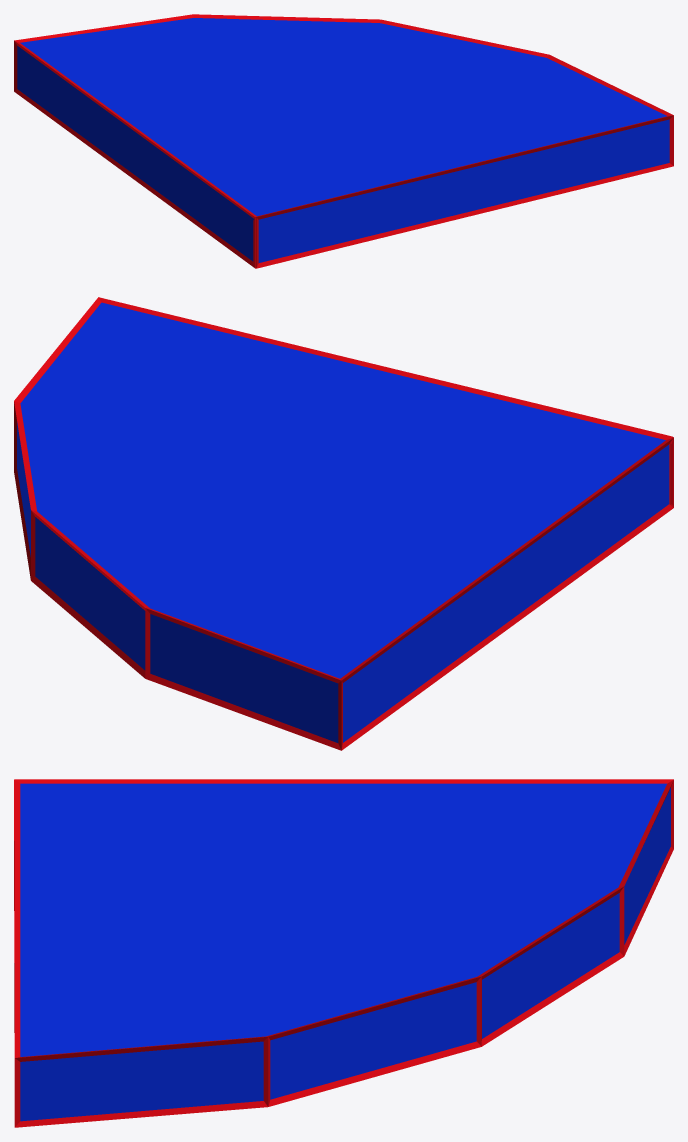
Rendered from L2_Small_PTube.fbx.
3 renders of one model, top to bottom at view 1: azimuth 30°, elevation 25°; view 2: azimuth 150°, elevation 25°; view 3: azimuth 270°, elevation 25°, orthographic. The views are drawn at different scales.
Visible parts, largest first — view 1: L2_Small_PTube; view 2: L2_Small_PTube; view 3: L2_Small_PTube.
Part boxes in pixels (x1,y1,x2,y2): L2_Small_PTube: (14,14,673,268); L2_Small_PTube: (14,297,673,750); L2_Small_PTube: (14,779,673,1127).
Size of the model in its own units: 454 by 53.35 by 453.
